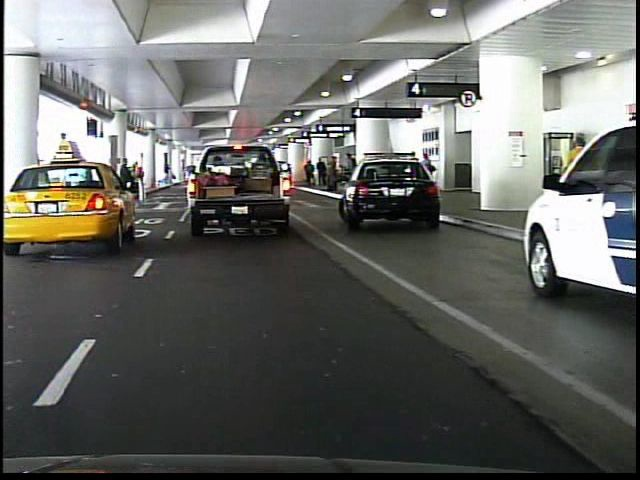person: (110, 155, 135, 219), (185, 150, 208, 203)
